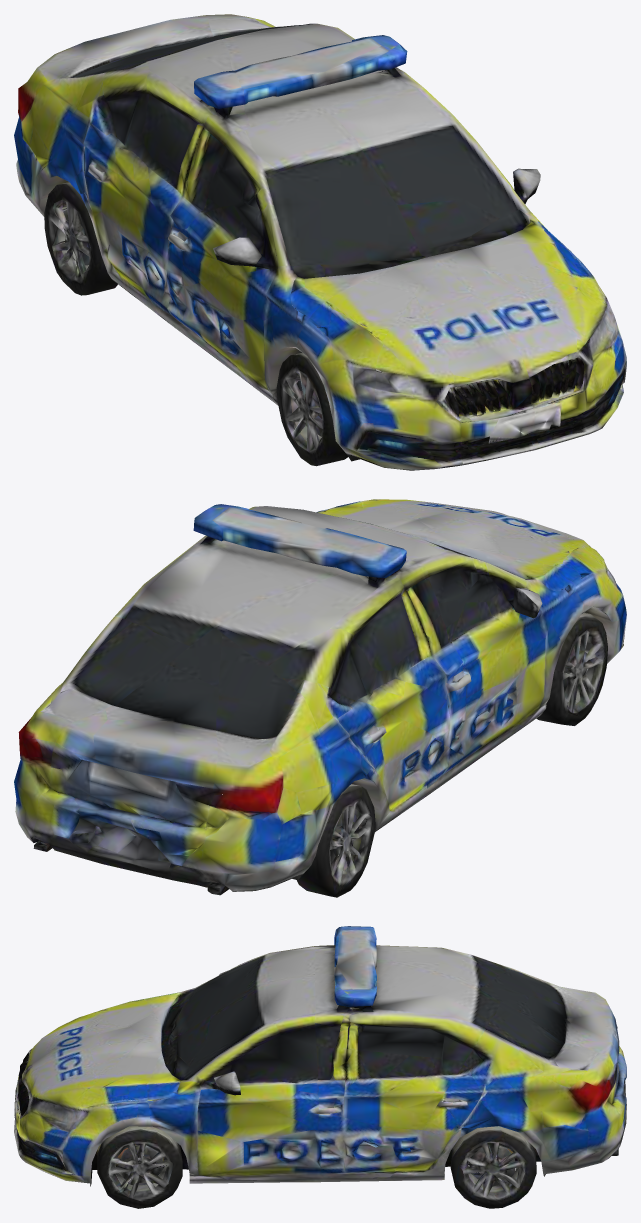
Rendered from veh-police2.glb.
3 renders of one model, top to bottom at view 1: azimuth 30°, elevation 25°; view 2: azimuth 150°, elevation 25°; view 3: azimuth 270°, elevation 25°, orthographic. The views are drawn at different scales.
Parts seen in each view (by area): view 1: tripo_node_6cbd7446-1797-48de-ba22-d862a8e6772f; view 2: tripo_node_6cbd7446-1797-48de-ba22-d862a8e6772f; view 3: tripo_node_6cbd7446-1797-48de-ba22-d862a8e6772f.
Part boxes in pixels (box(x1,y1,x2,y2)): tripo_node_6cbd7446-1797-48de-ba22-d862a8e6772f: box(14, 14, 626, 470); tripo_node_6cbd7446-1797-48de-ba22-d862a8e6772f: box(14, 499, 626, 897); tripo_node_6cbd7446-1797-48de-ba22-d862a8e6772f: box(14, 926, 626, 1208).
Size of the model in its own units: 0.4535 by 0.35 by 0.9809.
1 material, 1 textured.
